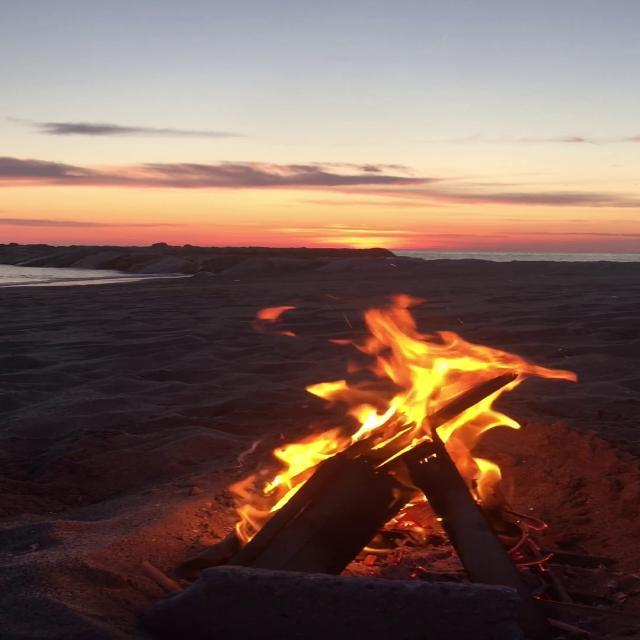Fire: (250, 290, 573, 534)
